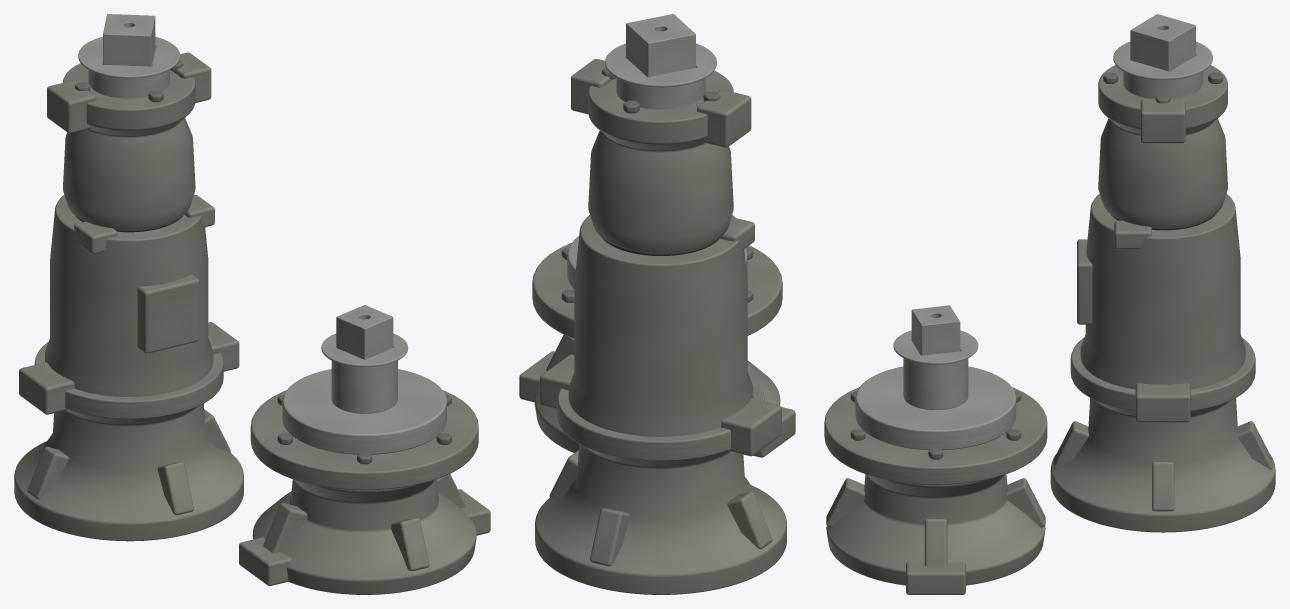
Rendered from brake_valves_final_without_handles.glb.
3 renders of one model, left to right at view 1: azimuth 30°, elevation 25°; view 2: azimuth 150°, elevation 25°; view 3: azimuth 270°, elevation 25°, orthographic. The views are drawn at different scales.
Visible parts, largest first — view 1: Tall_Lower_Casting, Short_Lower_Casting, Tall_Upper_Casting, Short_Flange, Short_Cover, Short_Exposed_Spindle, Tall_Exposed_Spindle, Tall_Front_Cast_Boss, Tall_Lower_Flange, Tall_Shoulder_Washer, Tall_Lower_Flange_Ear_1, Tall_Cap_Ear_1 (+10 smaller); view 2: Tall_Lower_Casting, Tall_Upper_Casting, Tall_Exposed_Spindle, Short_Flange, Tall_Lower_Flange, Tall_Lower_Flange_Ear_1, Tall_Cap_Ear_1, Tall_Shoulder_Washer, Short_Lower_Casting, Tall_Foot_Rib_1, Tall_Foot_Rib_2, Tall_Cap_Ear_0 (+8 smaller); view 3: Tall_Lower_Casting, Short_Lower_Casting, Tall_Upper_Casting, Short_Flange, Short_Cover, Short_Exposed_Spindle, Tall_Exposed_Spindle, Tall_Lower_Flange, Tall_Lower_Flange_Ear_0, Tall_Cap_Ear_0, Short_Mounting_Lug_0.042, Tall_Shoulder_Washer (+9 smaller).
Part boxes in pixels (x1,y1,x2,y2): Tall_Lower_Casting: [14, 195, 243, 541]; Short_Lower_Casting: [252, 479, 476, 594]; Tall_Upper_Casting: [63, 63, 195, 229]; Short_Flange: [250, 390, 478, 490]; Short_Cover: [282, 369, 446, 454]; Short_Exposed_Spindle: [331, 305, 397, 413]; Tall_Exposed_Spindle: [88, 14, 169, 98]; Tall_Front_Cast_Boss: [137, 274, 199, 353]; Tall_Lower_Flange: [34, 342, 223, 419]; Tall_Shoulder_Washer: [78, 36, 180, 78]; Tall_Lower_Flange_Ear_1: [19, 362, 74, 414]; Tall_Cap_Ear_1: [47, 80, 96, 133]; Tall_Lower_Casting: [535, 215, 786, 594]; Tall_Upper_Casting: [588, 70, 733, 252]; Tall_Exposed_Spindle: [616, 14, 705, 109]; Short_Flange: [532, 243, 782, 338]; Tall_Lower_Flange: [557, 376, 764, 460]; Tall_Lower_Flange_Ear_1: [721, 398, 781, 456]; Tall_Cap_Ear_1: [697, 89, 751, 147]; Tall_Shoulder_Washer: [605, 43, 716, 87]; Short_Lower_Casting: [534, 360, 780, 452]; Tall_Foot_Rib_1: [590, 508, 629, 566]; Tall_Foot_Rib_2: [727, 491, 772, 549]; Tall_Cap_Ear_0: [571, 59, 612, 114]; Tall_Lower_Casting: [1050, 193, 1275, 532]; Short_Lower_Casting: [826, 474, 1045, 585]; Tall_Upper_Casting: [1098, 65, 1227, 227]; Short_Flange: [824, 387, 1047, 484]; Short_Cover: [855, 366, 1016, 450]; Short_Exposed_Spindle: [903, 305, 968, 409]; Tall_Exposed_Spindle: [1123, 14, 1202, 99]; Tall_Lower_Flange: [1070, 337, 1255, 411]; Tall_Lower_Flange_Ear_0: [1135, 383, 1190, 422]; Tall_Cap_Ear_0: [1140, 100, 1185, 143]; Short_Mounting_Lug_0.042: [906, 561, 965, 594]; Tall_Shoulder_Washer: [1113, 41, 1212, 79].
Bounding box in the file's own units: 0.1495 × 0.2025 × 0.1806.
Materials: 4 (3 with a texture image).
